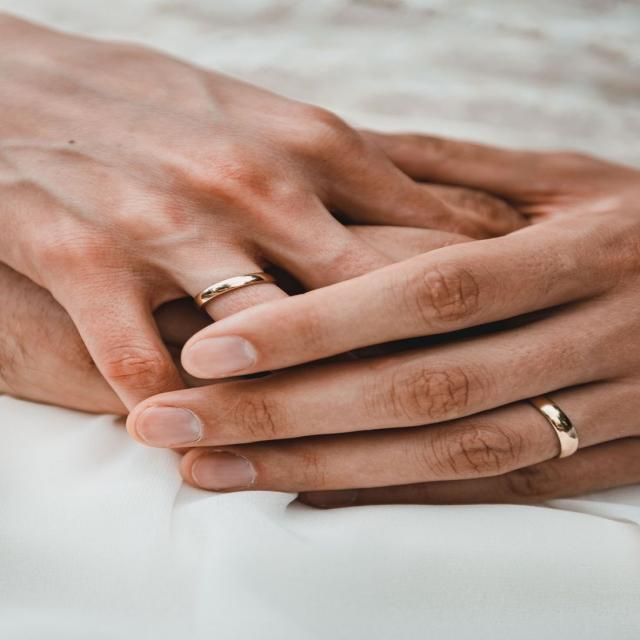Fingernail: (184, 337, 259, 381), (137, 407, 202, 451), (194, 450, 254, 492)
